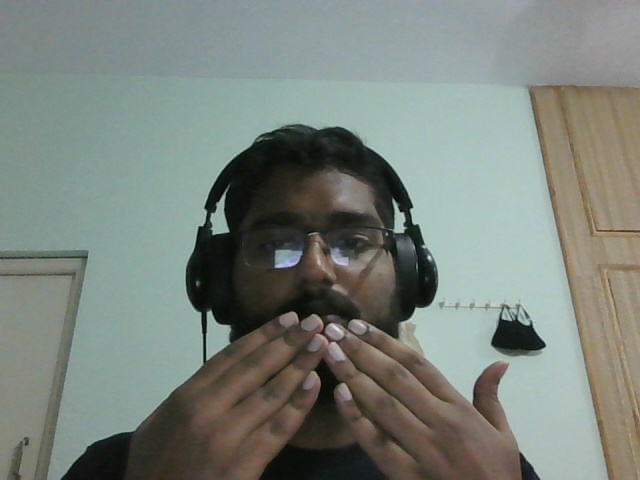Thank You: (132, 314, 538, 480)
